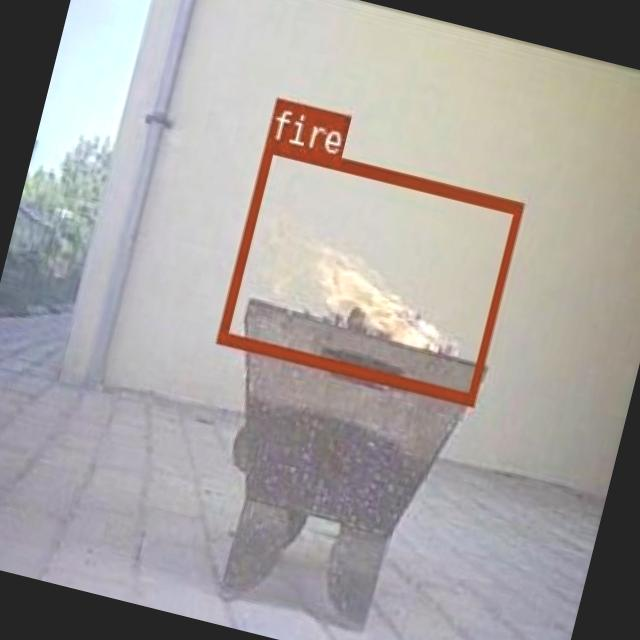fire: (213, 138, 522, 404)
